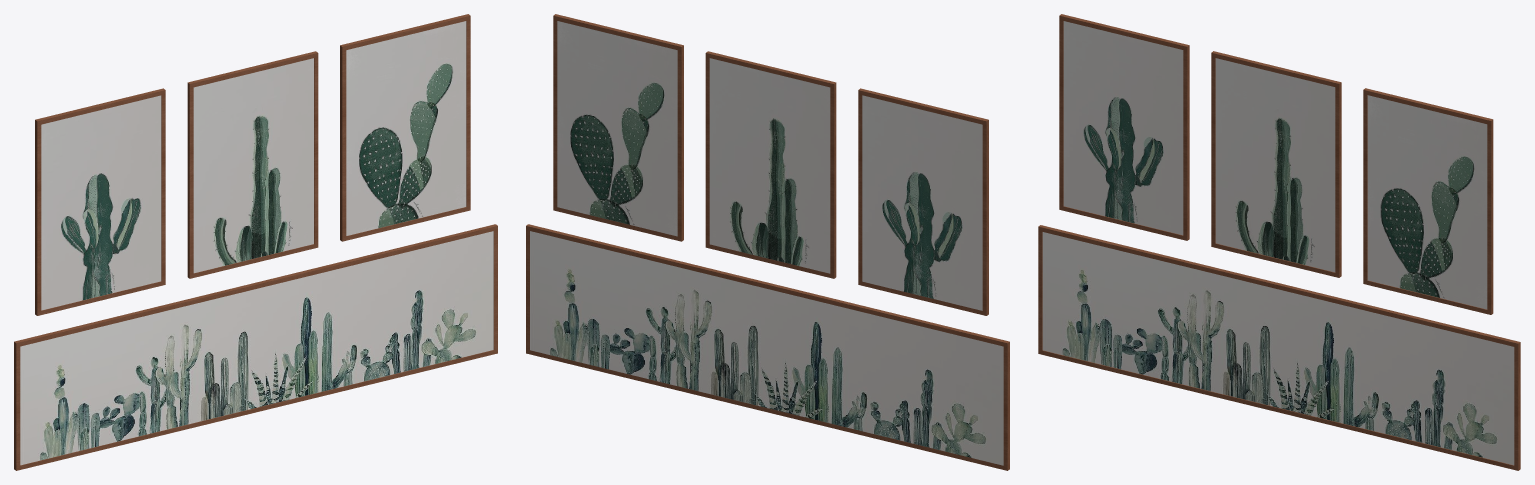
The model's file is A23DMOD_FBX.fbx.
3 renders of one model, left to right at view 1: azimuth 30°, elevation 25°; view 2: azimuth 150°, elevation 25°; view 3: azimuth 330°, elevation 25°, orthographic.
Visible parts, largest first — view 1: A23DOBJ_004, A23DOBJ_002, A23DOBJ_003, A23DOBJ_001; view 2: A23DOBJ_004, A23DOBJ_002, A23DOBJ_003, A23DOBJ_001; view 3: A23DOBJ_004, A23DOBJ_003, A23DOBJ_001, A23DOBJ_002.
Boxes of the visible parts, left/top/right/bottom form: A23DOBJ_004: left=14, top=224, right=497, bottom=470; A23DOBJ_002: left=187, top=51, right=318, bottom=278; A23DOBJ_003: left=340, top=14, right=470, bottom=241; A23DOBJ_001: left=35, top=88, right=165, bottom=315; A23DOBJ_004: left=526, top=224, right=1009, bottom=470; A23DOBJ_002: left=705, top=51, right=836, bottom=278; A23DOBJ_003: left=553, top=14, right=683, bottom=241; A23DOBJ_001: left=858, top=88, right=988, bottom=315; A23DOBJ_004: left=1038, top=225, right=1520, bottom=470; A23DOBJ_003: left=1363, top=88, right=1493, bottom=314; A23DOBJ_001: left=1059, top=14, right=1189, bottom=240; A23DOBJ_002: left=1211, top=51, right=1341, bottom=277.
Bounding box in the file's own units: 140 × 95.75 × 1.16.
Materials: 5 (5 with a texture image).
